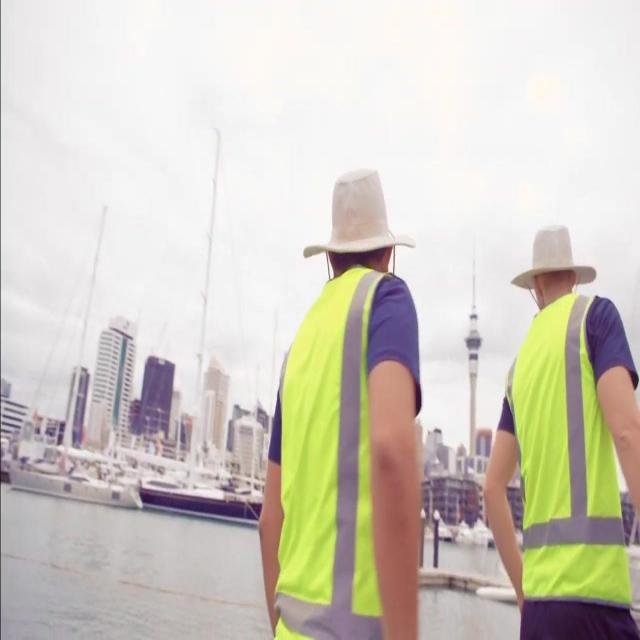vest: (271, 264, 415, 638), (502, 288, 634, 614)
